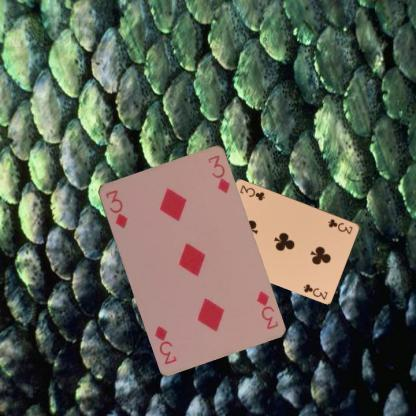3c: (326, 216, 354, 235)
3d: (102, 187, 129, 230), (253, 288, 280, 331)
